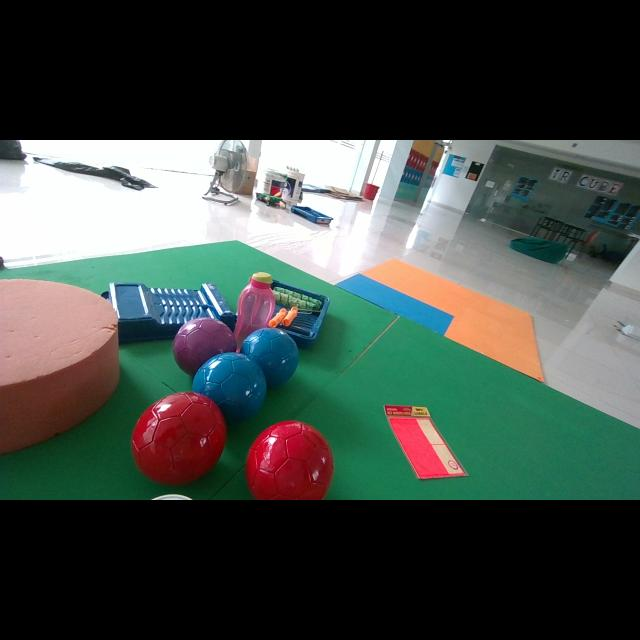B: (192, 352, 266, 422), (241, 328, 299, 388)
P: (172, 318, 236, 376)
R: (131, 392, 226, 484), (245, 420, 334, 499)
